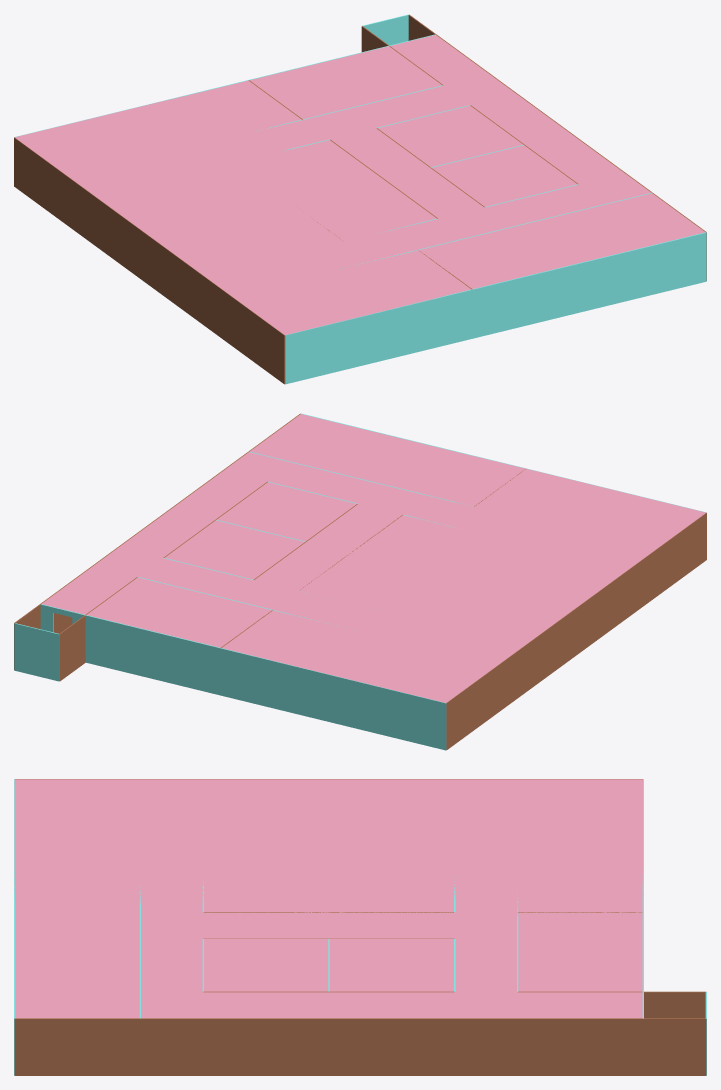
Rendered from Floor2.fbx.
The picture shows the model from 3 angles, top to bottom: view 1: azimuth 30°, elevation 25°; view 2: azimuth 150°, elevation 25°; view 3: azimuth 270°, elevation 25°; orthographic projection. The views are drawn at different scales.
Parts seen in each view (by area): view 1: Ceiling203, Wall204, Wall202, Wall201, Wall220; view 2: Ceiling203, Wall203, Wall202, Wall220, Wall214, Wall201; view 3: Ceiling203, Wall201, Wall214, Wall202, Wall208.
Boxes of the visible parts, bbox=[...] form: Ceiling203: bbox=[15, 35, 704, 334]; Wall204: bbox=[285, 232, 706, 384]; Wall202: bbox=[14, 137, 284, 384]; Wall201: bbox=[408, 14, 706, 280]; Wall220: bbox=[362, 14, 408, 45]; Ceiling203: bbox=[42, 414, 705, 702]; Wall203: bbox=[40, 604, 446, 750]; Wall202: bbox=[446, 512, 706, 750]; Wall220: bbox=[14, 623, 59, 681]; Wall214: bbox=[59, 577, 137, 681]; Wall201: bbox=[14, 413, 300, 669]; Ceiling203: bbox=[14, 779, 643, 1018]; Wall201: bbox=[14, 1018, 706, 1075]; Wall214: bbox=[518, 991, 705, 1018]; Wall202: bbox=[15, 779, 642, 779]; Wall208: bbox=[203, 991, 454, 992].
Size of the model in its own units: 4060 by 450 by 4960.
3 materials, 3 textured.
